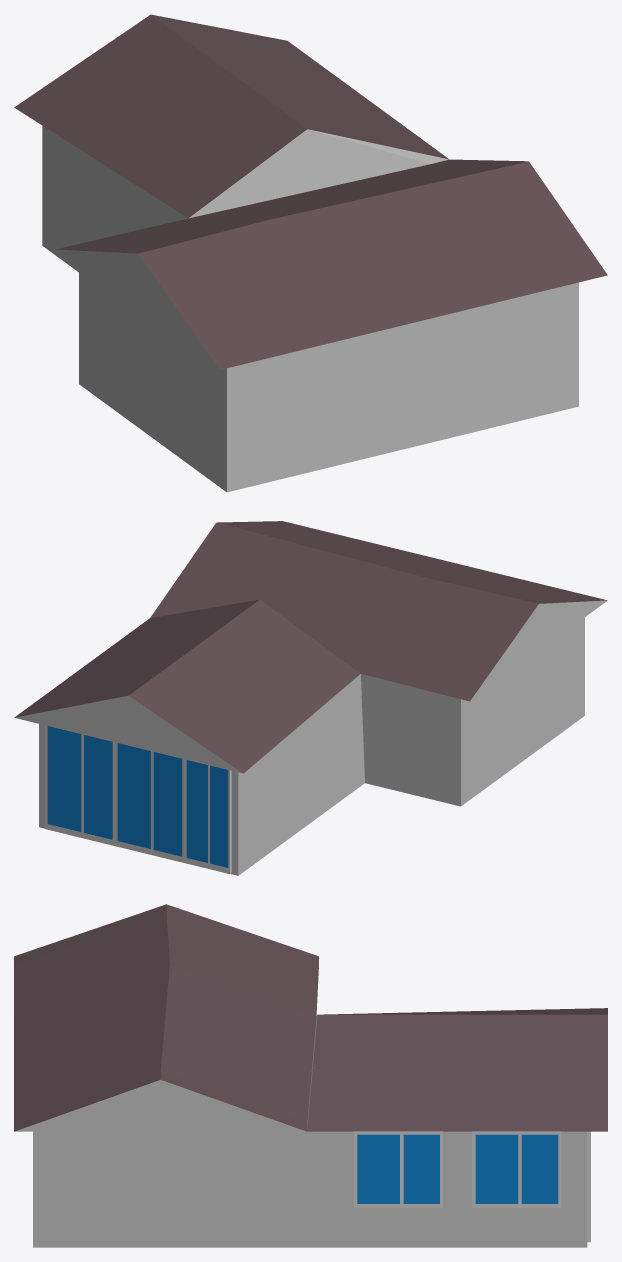
File: kantin.fbx
3 renders of one model, top to bottom at view 1: azimuth 30°, elevation 25°; view 2: azimuth 150°, elevation 25°; view 3: azimuth 270°, elevation 25°, orthographic. The views are drawn at different scales.
Visible parts, largest first — view 1: Cube; view 2: Cube, Cube.004, Cube.003, Cube.005; view 3: Cube, Cube.001, Cube.002.
Boxes of the visible parts, x1=… form: Cube: x1=14, y1=14, x2=607, y2=492; Cube: x1=14, y1=521, x2=607, y2=875; Cube.004: x1=115, y1=742, x2=184, y2=862; Cube.003: x1=45, y1=725, x2=114, y2=845; Cube.005: x1=184, y1=759, x2=231, y2=873; Cube: x1=14, y1=904, x2=607, y2=1247; Cube.001: x1=472, y1=1131, x2=561, y2=1207; Cube.002: x1=354, y1=1131, x2=442, y2=1207.
Bounding box in the file's own units: 1155 × 551 × 1652.
